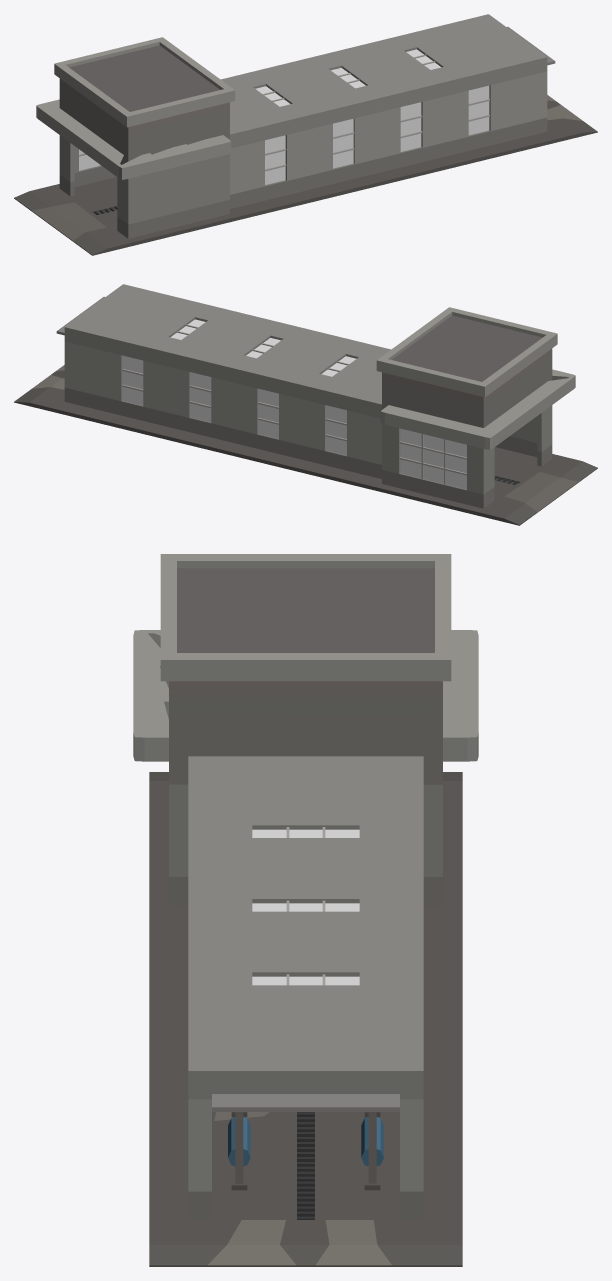
The model's file is SM_Bldg_City_CarWash.fbx.
3 renders of one model, top to bottom at view 1: azimuth 30°, elevation 25°; view 2: azimuth 150°, elevation 25°; view 3: azimuth 270°, elevation 25°, orthographic. The views are drawn at different scales.
Visible parts, largest first — view 1: SM_Bldg_City_CarWash; view 2: SM_Bldg_City_CarWash; view 3: SM_Bldg_City_CarWash.
Part boxes in pixels (left/top/right/bottom): SM_Bldg_City_CarWash: left=14, top=14, right=597, bottom=255; SM_Bldg_City_CarWash: left=14, top=284, right=597, bottom=525; SM_Bldg_City_CarWash: left=133, top=554, right=478, bottom=1266.
Size of the model in its own units: 2980 by 720 by 880.
